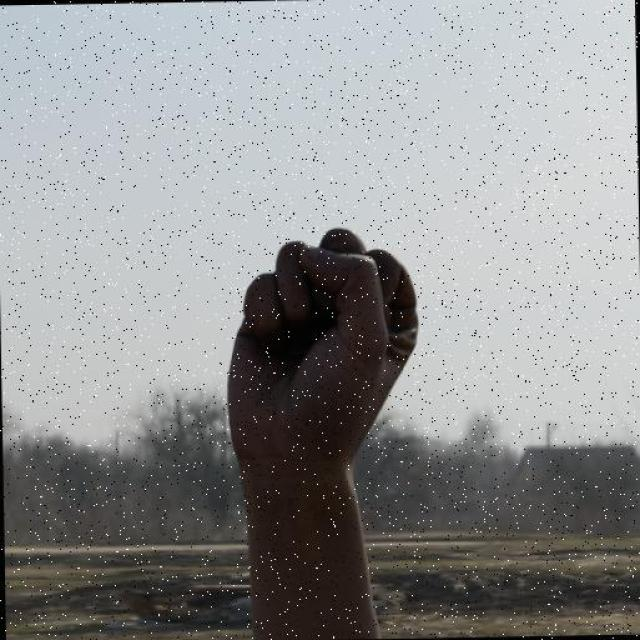S: (219, 221, 428, 478)
